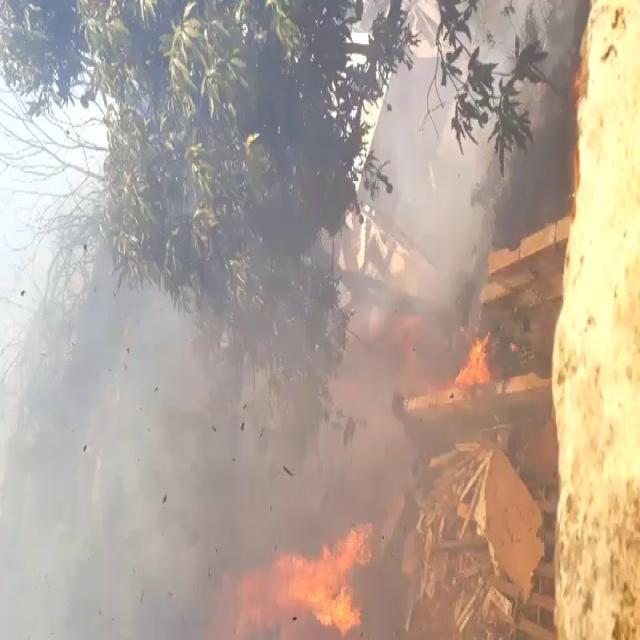Fire: (217, 520, 369, 637), (408, 318, 491, 398)
Smoke: (7, 137, 217, 636)
